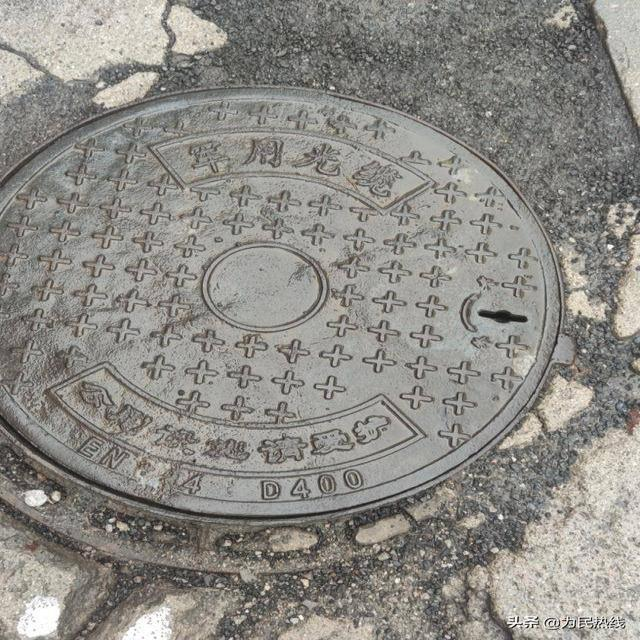manhole: (0, 88, 562, 522)
